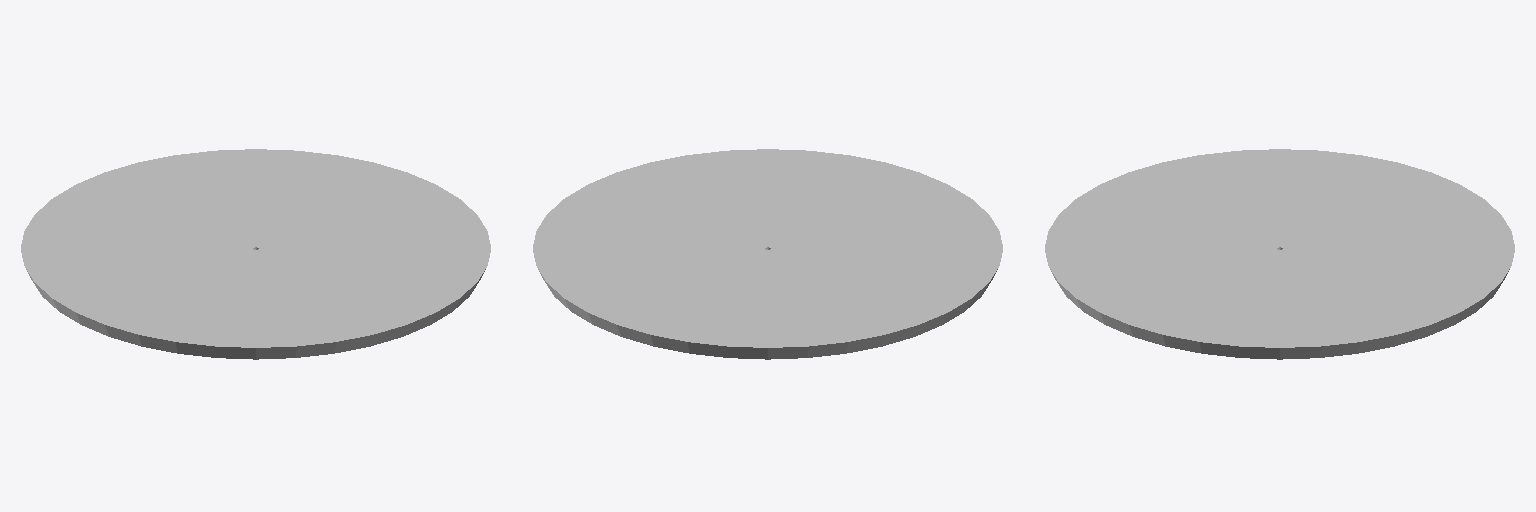
File: Ring.obj
The picture shows the model from 3 angles: view 1: azimuth 30°, elevation 25°; view 2: azimuth 150°, elevation 25°; view 3: azimuth 270°, elevation 25°; orthographic projection.
Parts seen in each view (by area): view 1: Disc_1, Disc; view 2: Disc_1, Disc; view 3: Disc_1, Disc.
Part boxes in pixels (x1,y1,x2,y2): Disc_1: (21,149,490,359); Disc: (21,149,490,347); Disc_1: (533,149,1002,359); Disc: (533,149,1002,347); Disc_1: (1045,149,1514,359); Disc: (1045,149,1514,347).
Bounding box in the file's own units: 207 × 7.19 × 207.